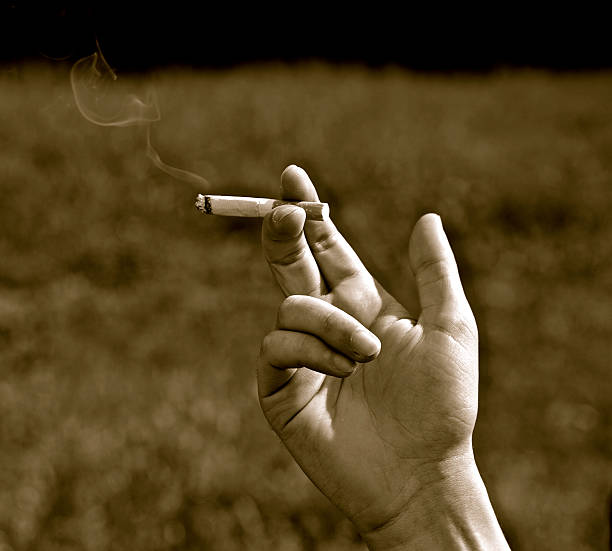cigarette: (190, 193, 331, 224)
